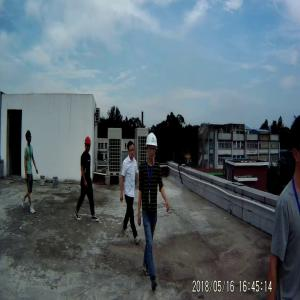none: (127, 141, 137, 160), (25, 128, 34, 146)
red: (84, 137, 93, 157)
white: (146, 129, 159, 163)
